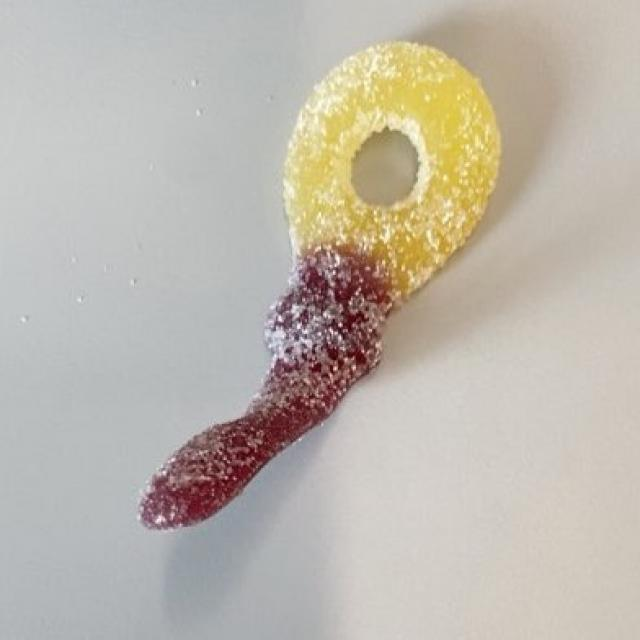gummies: (149, 52, 493, 525)
